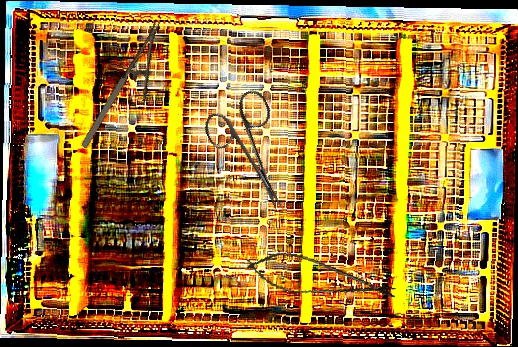Iris Scissors: (197, 86, 313, 226)
Micro Scissor: (242, 246, 400, 310)
Needle Holder: (76, 19, 187, 162)
